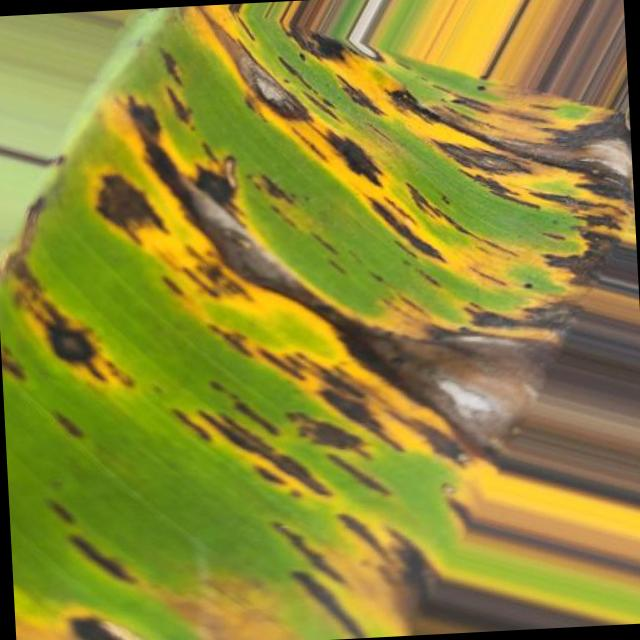Banana_Black_Sigatoka: (20, 256, 549, 640), (102, 0, 639, 322)
